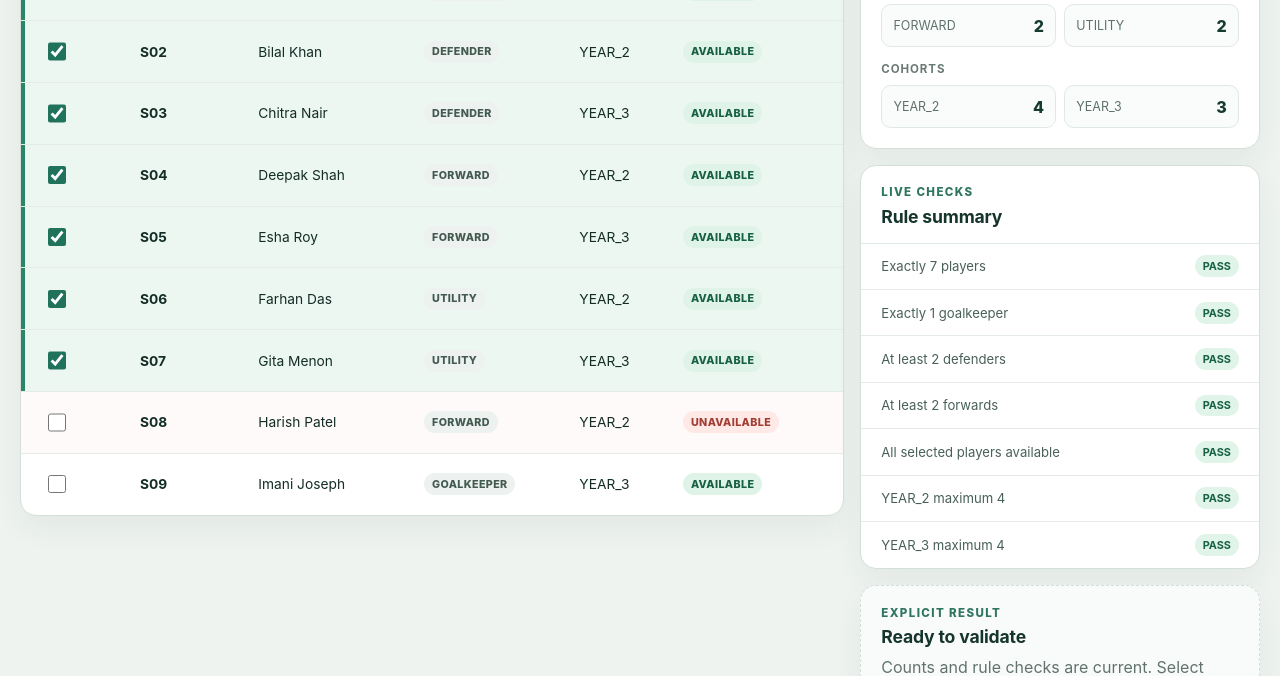
Test: Sports Squad Constraint Checker UI › reports only the squad-size violation for the six-player case
The width and height of the screenshot is (1280, 676).
(page scrolled)
Click the checkbox next to "S07" at (57, 361), box [48,351,66,370]
(page scrolled)
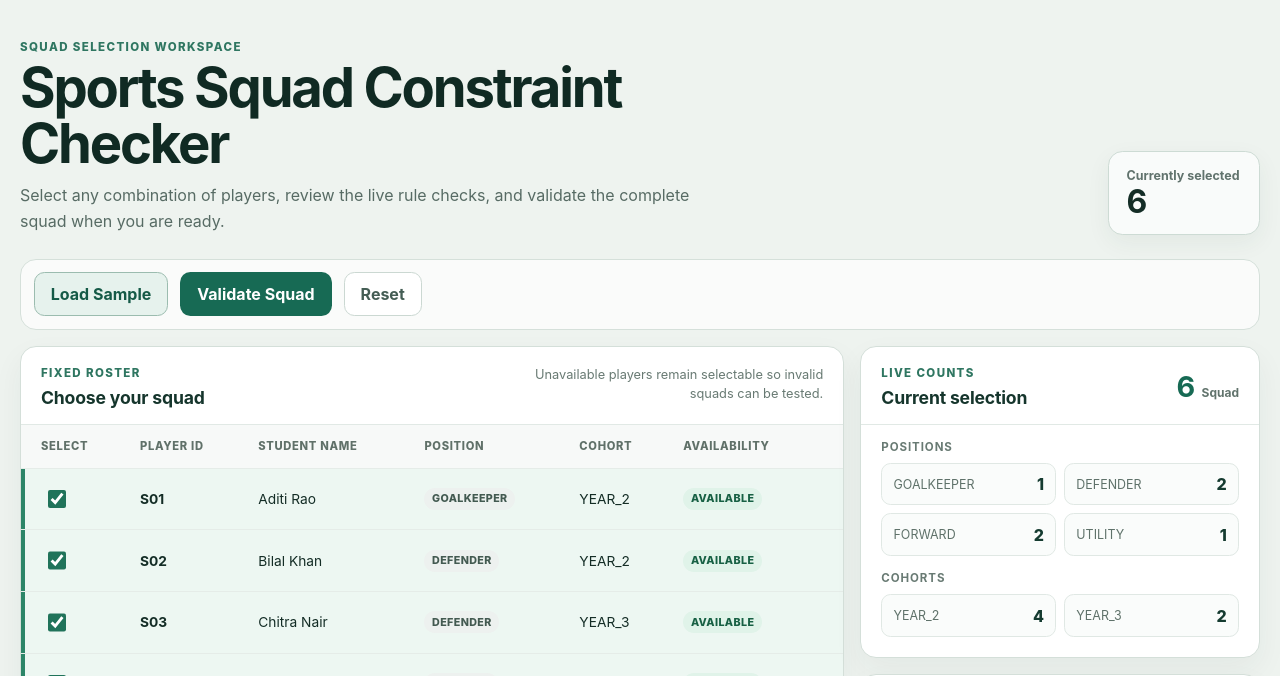
Click the button "Validate Squad" at (256, 294), box [180,272,332,316]
(page scrolled)
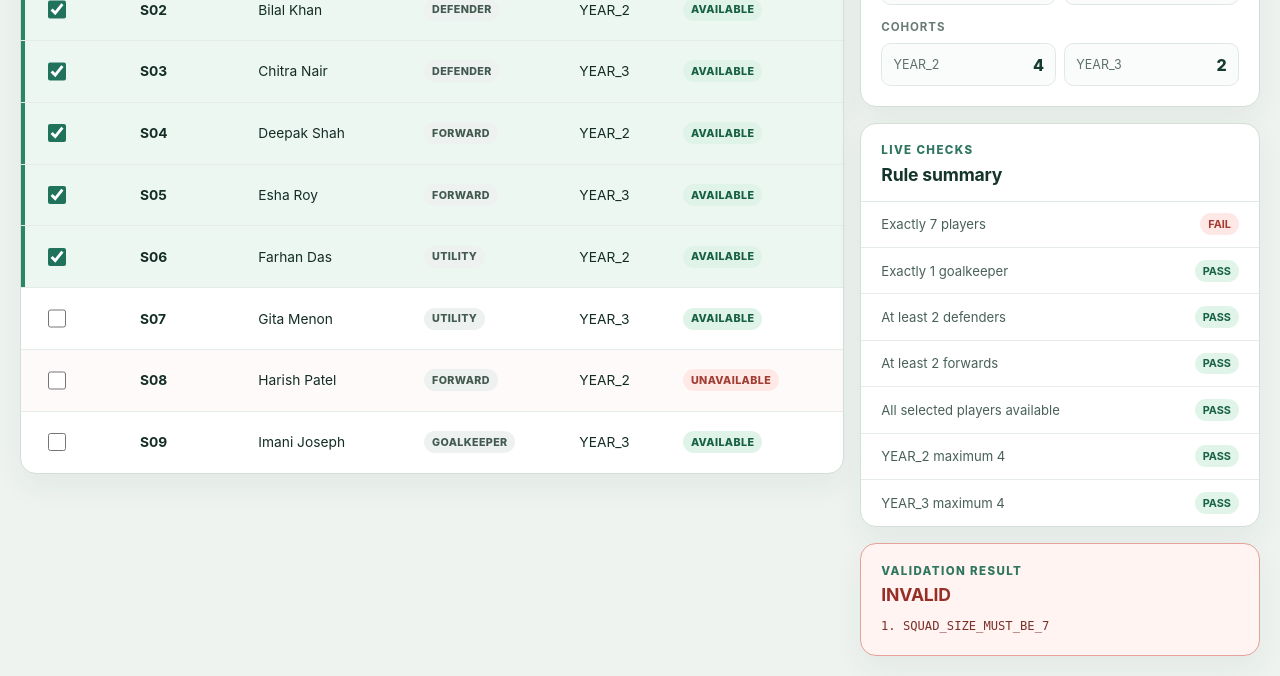
Now the heading "INVALID" is shown, box [881,584,951,605]
Now the list items read "SQUAD_SIZE_MUST_BE_7", in this order, box [903,619,1049,633]
